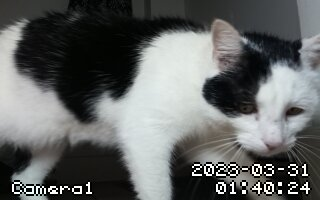bad: (2, 15, 319, 200)
